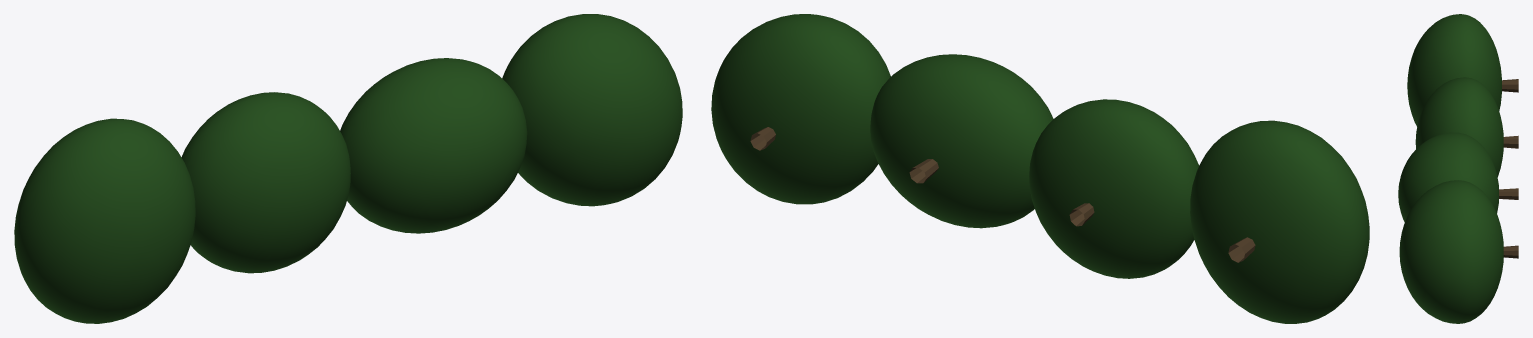
The model's file is citrus_plain4_d.obj.
3 renders of one model, left to right at view 1: azimuth 30°, elevation 25°; view 2: azimuth 150°, elevation 25°; view 3: azimuth 270°, elevation 25°, orthographic. The views are drawn at different scales.
Parts seen in each view (by area): view 1: canopy; view 2: canopy, trunk; view 3: canopy, trunk.
Part boxes in pixels (box(x1,y1,x2,y2)): canopy: box(14, 14, 682, 323); canopy: box(711, 14, 1369, 323); trunk: box(750, 127, 1255, 262); canopy: box(1398, 14, 1503, 323); trunk: box(1499, 79, 1518, 258).
Bounding box in the file's own units: 12.15 × 3.45 × 2.82.
